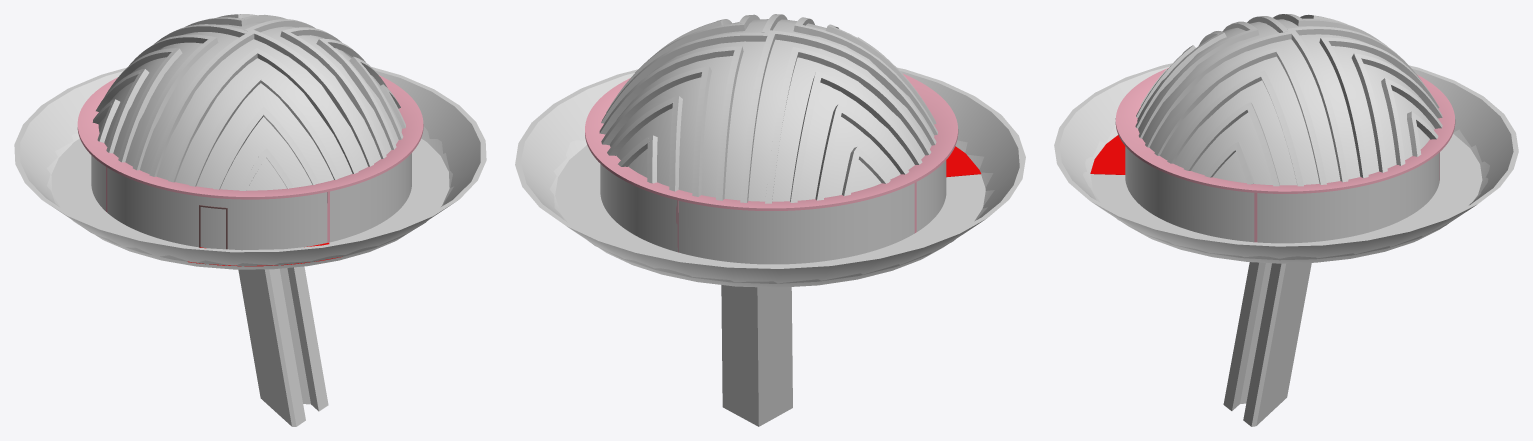
Rendered from Suite_Scene.fbx.
3 renders of one model, left to right at view 1: azimuth 30°, elevation 25°; view 2: azimuth 150°, elevation 25°; view 3: azimuth 270°, elevation 25°, orthographic. The views are drawn at different scales.
Visible parts, largest first — view 1: GLASS, Object_65, GlassFrames, Object_66, InternalWall, SLIDING DOOR; view 2: GLASS, Object_65, GlassFrames, Object_66, InternalWall, SLIDING DOOR, Carpet_2; view 3: GLASS, Object_65, GlassFrames, Object_66, InternalWall, SLIDING DOOR, Carpet_2.
Part boxes in pixels (left/top/right/bottom): GLASS: left=91, top=21, right=411, bottom=250; Object_65: left=14, top=67, right=486, bottom=269; GlassFrames: left=92, top=14, right=405, bottom=190; Object_66: left=238, top=266, right=328, bottom=426; InternalWall: left=77, top=75, right=423, bottom=242; SLIDING DOOR: left=200, top=154, right=410, bottom=249; GLASS: left=600, top=19, right=946, bottom=264; Object_65: left=515, top=67, right=1025, bottom=287; GlassFrames: left=599, top=14, right=937, bottom=203; Object_66: left=721, top=285, right=792, bottom=426; InternalWall: left=585, top=73, right=958, bottom=252; SLIDING DOOR: left=604, top=167, right=835, bottom=263; Carpet_2: left=946, top=146, right=981, bottom=177; GLASS: left=1125, top=19, right=1439, bottom=243; Object_65: left=1054, top=63, right=1518, bottom=263; GlassFrames: left=1135, top=14, right=1442, bottom=186; Object_66: left=1223, top=262, right=1311, bottom=426; InternalWall: left=1115, top=68, right=1455, bottom=242; SLIDING DOOR: left=1167, top=175, right=1408, bottom=229; Carpet_2: left=1090, top=135, right=1125, bottom=174.
Bounding box in the file's own units: 32.45 × 32.45 × 28.28.
